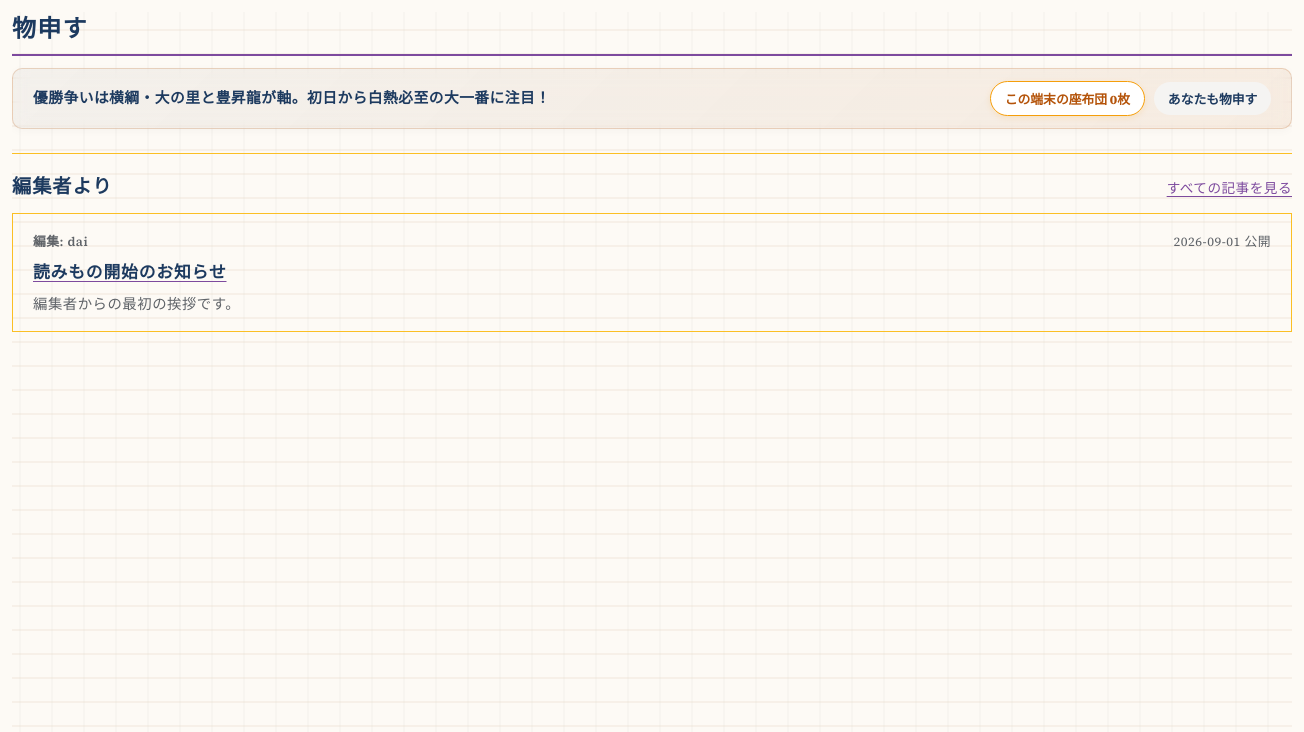
Scenario: MonomosuSection › starts the device-only zabuton count at zero and stores it per basho day
Click the button with aria-label "この端末で座布団を投げる".
click(1067, 98)  # box [990,81,1145,116]
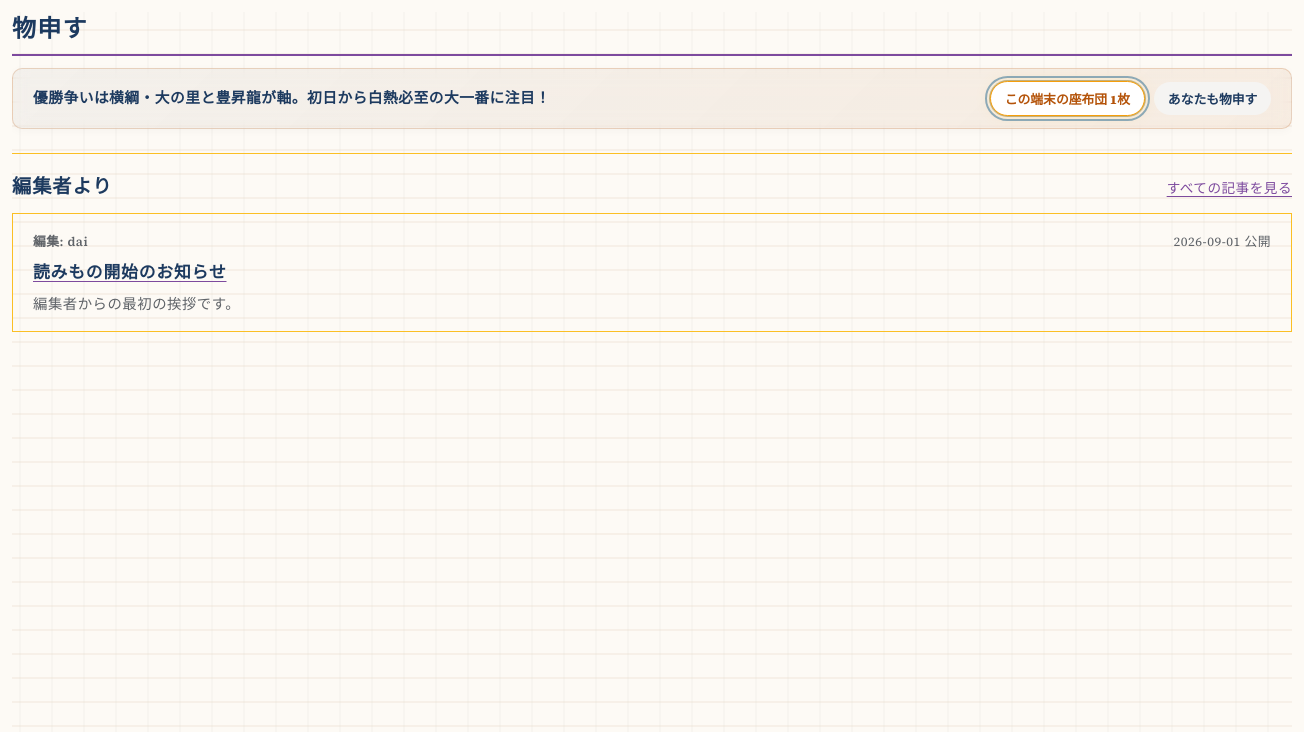
Result: the button with aria-label "この端末で座布団を投げる" reads "この端末の座布団 1枚" at [990,81,1145,116]
